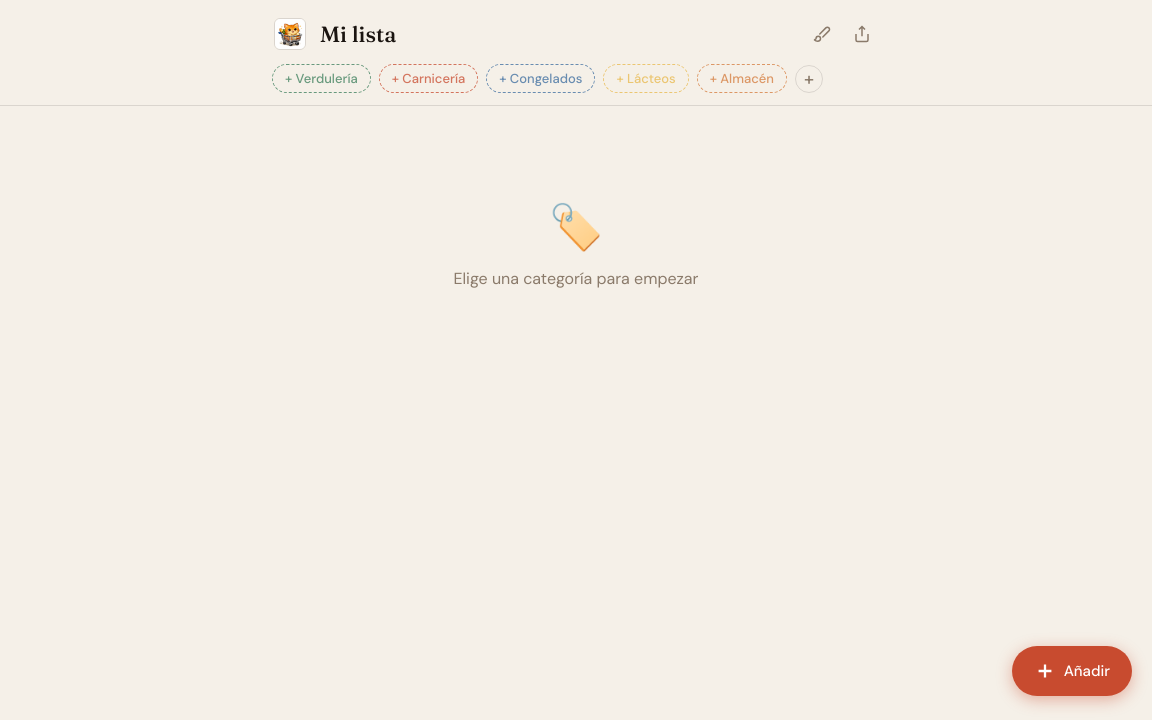
Test case: ListPage › share button copies URL when navigator.share is unavailable
This screenshot has width=1152, height=720.
Expected: the heading "Mi lista" is shown, [320,20,396,48]
Click the button titled "Compartir" at (862, 34), box [844,16,880,52]
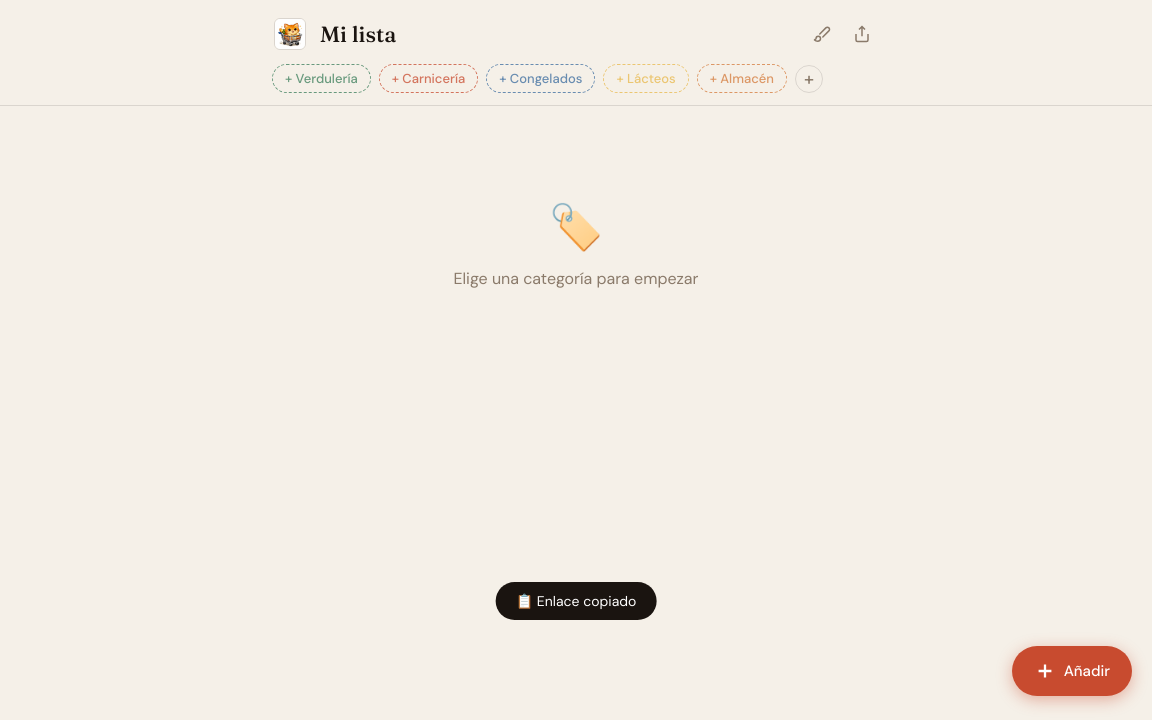
Result: the text "📋 Enlace copiado" is shown at [496,582,656,620]
